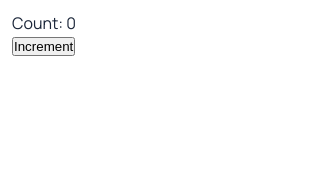
Test: UI component tests › button click updates DOM state through user interaction
Click the button "Increment". click: (44,46)
box: [12, 37, 75, 56]
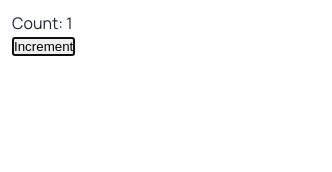
Result: the text "Count: 1" is shown at [12, 12, 73, 34]
